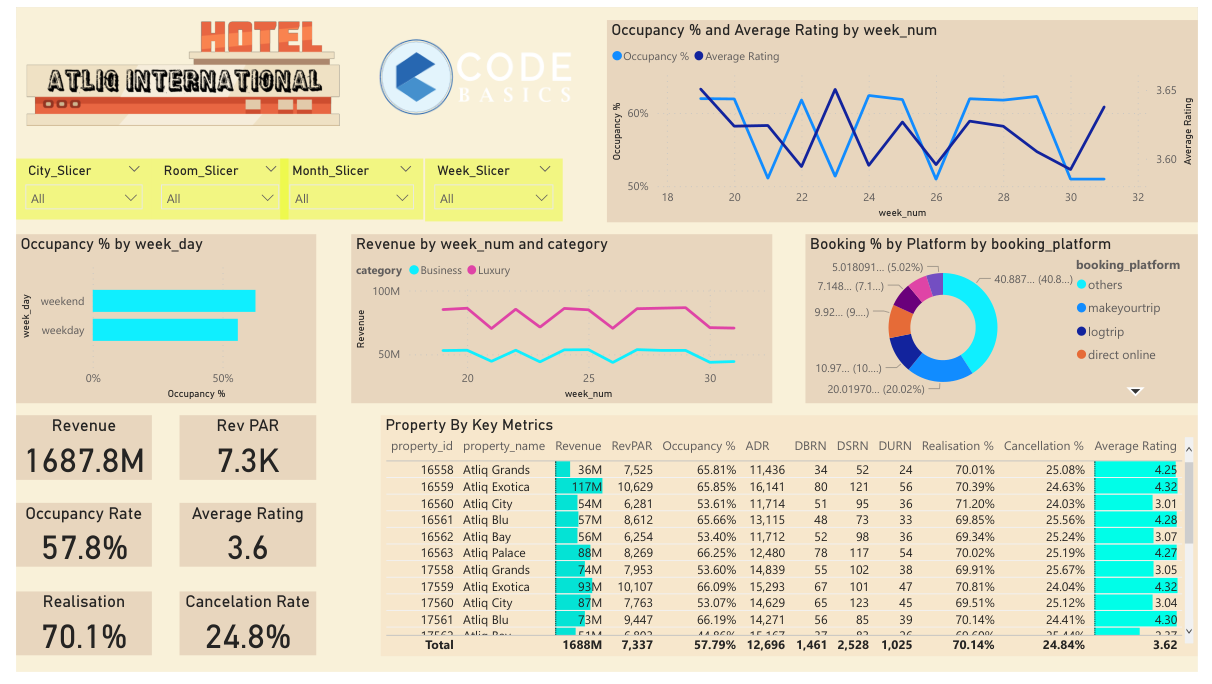

Layout of this report page (visuals, bound fields, positions):
{"tool":"powerbi","page":{"name":"Page 1","canvas":[1280,720],"ordinal":0},"visuals":[{"type":"tableEx","title":"Property By Key Metrics","fields":{"Values":["dim_hotels.property_id","dim_hotels.property_name","Key Measures.Revenue","Key Measures.RevPAR","Key Measures.Occupancy %","Key Measures.ADR","Key Measures.DBRN","Key Measures.DSRN","Key Measures.DURN","Key Measures.Realisation %","Key Measures.Cancellation %","Key Measures.Average Rating"]},"box":[395,441.8,885,261.5],"z":0},{"type":"slicer","fields":{"Values":["dim_hotels.city"]},"box":[0,164.2,147.3,66.1],"z":1000},{"type":"slicer","fields":{"Values":["dim_rooms.room_class"]},"box":[147.3,164.2,147.3,66.1],"z":2000},{"type":"slicer","fields":{"Values":["dim_date.mmm yy"]},"box":[286.4,164.2,155,65.7],"z":3000},{"type":"slicer","fields":{"Values":["dim_date.week_num"]},"box":[443.2,164.2,148.6,67.4],"z":4000},{"type":"card","title":"Revenue","fields":{"Values":["Key Measures.Revenue"]},"box":[0,442.2,147.2,69.6],"z":5000},{"type":"card","title":"Rev PAR","fields":{"Values":["Key Measures.RevPAR"]},"box":[177.4,442.2,147.2,69.6],"z":6000},{"type":"card","title":"Realisation","fields":{"Values":["Key Measures.Realisation %"]},"box":[0,632.7,147.2,69.6],"z":7000},{"type":"card","title":"Average Rating","fields":{"Values":["Key Measures.Average Rating"]},"box":[177.4,536.8,147.2,69.6],"z":8000},{"type":"card","title":"Occupancy Rate","fields":{"Values":["Key Measures.Occupancy %"]},"box":[0,536.8,147.2,69.6],"z":9000},{"type":"card","title":"Cancelation Rate","fields":{"Values":["Key Measures.Cancellation %"]},"box":[177.4,632.7,147.2,69.6],"z":10000},{"type":"barChart","fields":{"Category":["dim_date.week_day"],"Y":["Key Measures.Occupancy %"]},"box":[0,246.4,324.8,183.1],"z":11000},{"type":"donutChart","fields":{"Category":["fact_bookings.booking_platform"],"Y":["Key Measures.Booking % by Platform"]},"box":[854.7,246.4,425.3,183.1],"z":12000},{"type":"lineChart","fields":{"Y":["Key Measures.Revenue"],"Category":["dim_date.week_num"],"Series":["dim_hotels.category"]},"box":[363.4,246.4,455.6,183.1],"z":13000},{"type":"lineChart","fields":{"Category":["dim_date.week_num"],"Y":["Key Measures.Occupancy %"],"Y2":["Key Measures.Average Rating"]},"box":[640,13.8,640,218.8],"z":14000},{"type":"image","box":[0,0,363.4,137.6],"z":14001},{"type":"image","box":[385.4,0,224.3,150],"z":14002}]}

Visuals, with their boxes in screenshot pixels (x1, y1, x2, y2), scaled from the page's 1280x720 canvas onto the 1212x684 screenshot:
"Property By Key Metrics" tableEx: box=[374, 420, 1211, 668]
slicer - dim_hotels.city: box=[0, 156, 139, 219]
slicer - dim_rooms.room_class: box=[139, 156, 279, 219]
slicer - dim_date.mmm yy: box=[271, 156, 418, 218]
slicer - dim_date.week_num: box=[420, 156, 560, 220]
"Revenue" card: box=[0, 420, 139, 486]
"Rev PAR" card: box=[168, 420, 307, 486]
"Realisation" card: box=[0, 601, 139, 667]
"Average Rating" card: box=[168, 510, 307, 576]
"Occupancy Rate" card: box=[0, 510, 139, 576]
"Cancelation Rate" card: box=[168, 601, 307, 667]
barChart - dim_date.week_day x Key Measures.Occupancy %: box=[0, 234, 308, 408]
donutChart - fact_bookings.booking_platform x Key Measures.Booking % by Platform: box=[809, 234, 1211, 408]
lineChart - Key Measures.Revenue x dim_date.week_num: box=[344, 234, 775, 408]
lineChart - dim_date.week_num x Key Measures.Occupancy %: box=[606, 13, 1211, 221]
image: box=[0, 0, 344, 131]
image: box=[365, 0, 577, 142]
